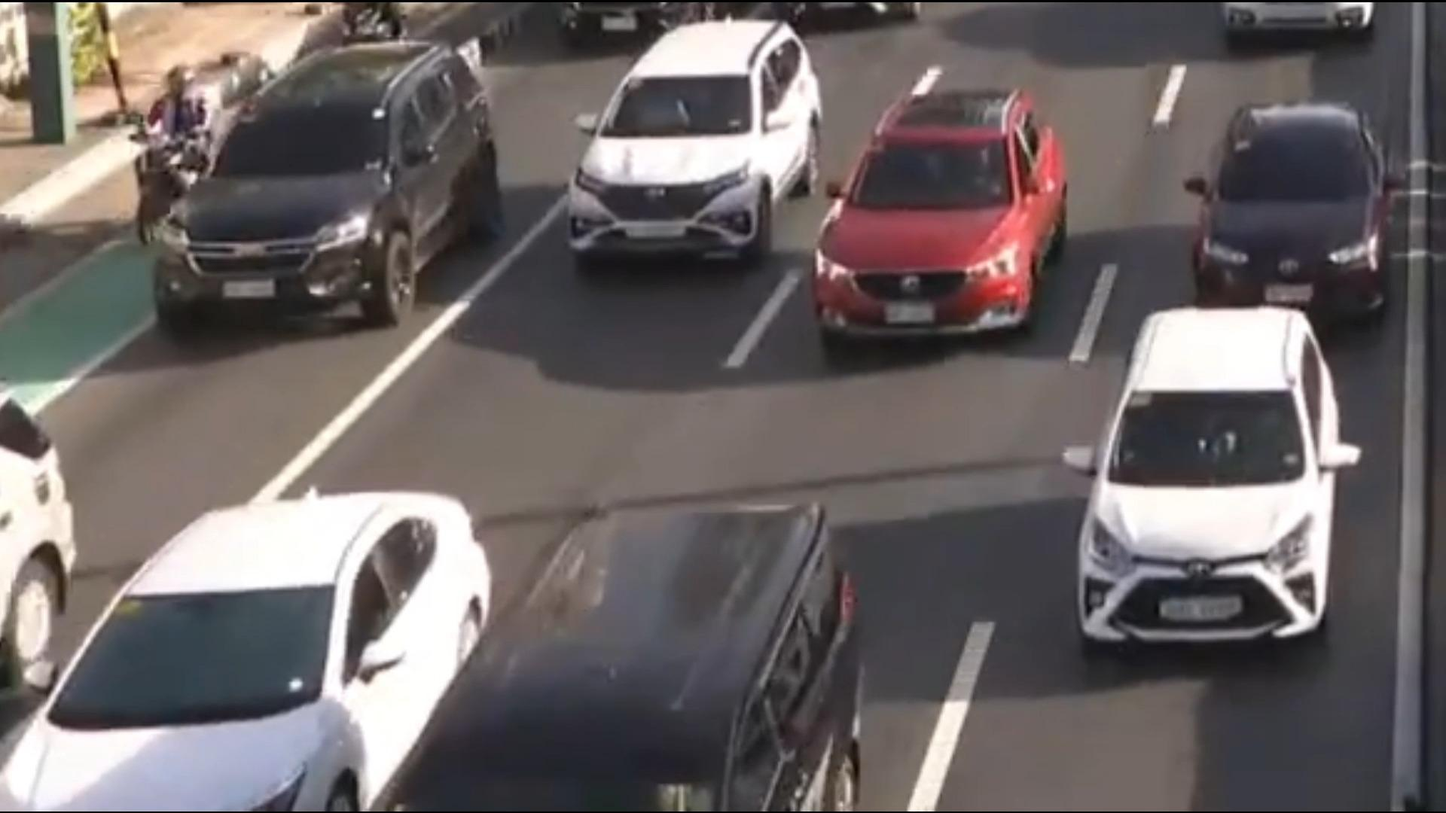Motorcycle: (126, 61, 234, 226), (326, 0, 409, 42)
SUV: (1048, 301, 1403, 673), (132, 25, 518, 352), (778, 66, 1092, 363), (545, 3, 843, 294)
Sedan: (0, 458, 539, 813), (1165, 70, 1429, 312)
Van: (344, 478, 953, 813)
